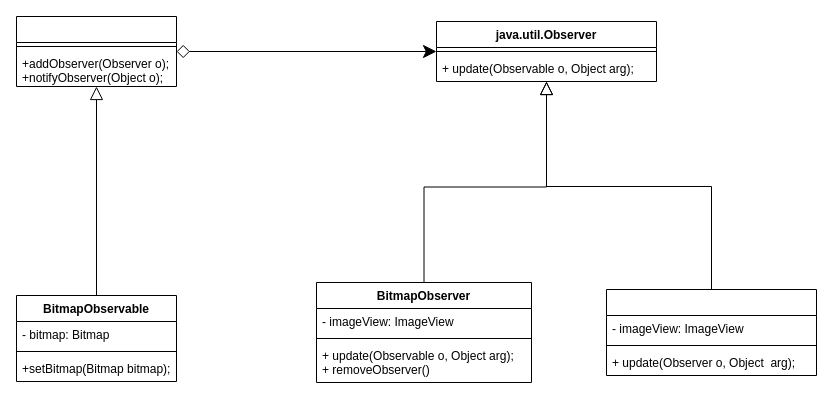
Some shapes in this 833 by 399 pixel diagram are drawn without their labels. The box of each missing label's shape, as (x1, y1, x2, y2) in pixels:
BitmapOneTimeObserver: (606, 288, 816, 376)
java.util.Observable: (16, 16, 176, 86)
